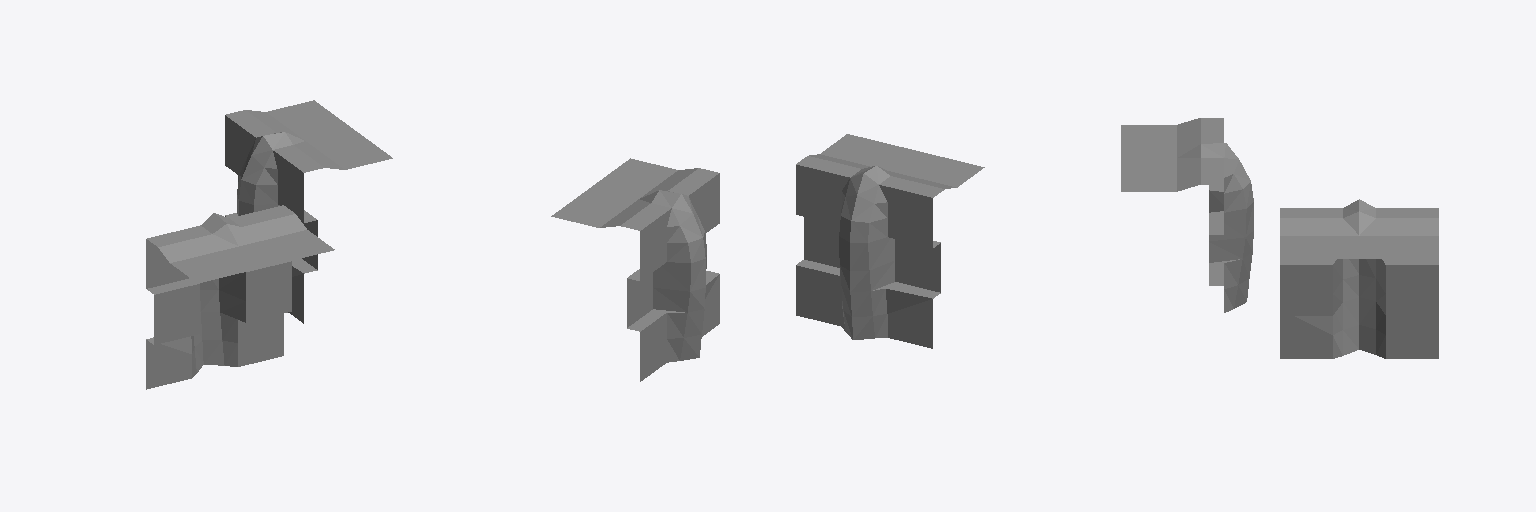
The model's file is space.unity_2.obj.
3 views of the same model, side by side, from view 1: azimuth 30°, elevation 25°; view 2: azimuth 150°, elevation 25°; view 3: azimuth 270°, elevation 25° (orthographic).
Parts seen in each view (by area): view 1: Scifi_Wall_01; view 2: Scifi_Wall_01; view 3: Scifi_Wall_01.
Boxes of the visible parts, x1=… form: Scifi_Wall_01: x1=146, y1=100, x2=392, y2=389; Scifi_Wall_01: x1=551, y1=134, x2=984, y2=381; Scifi_Wall_01: x1=1121, y1=118, x2=1438, y2=358.
Bounding box in the file's own units: 20 × 11.08 × 20.